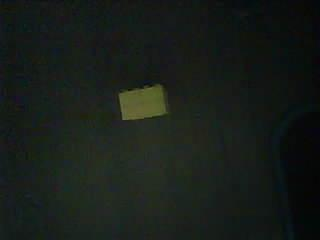lego: (117, 82, 170, 121)
